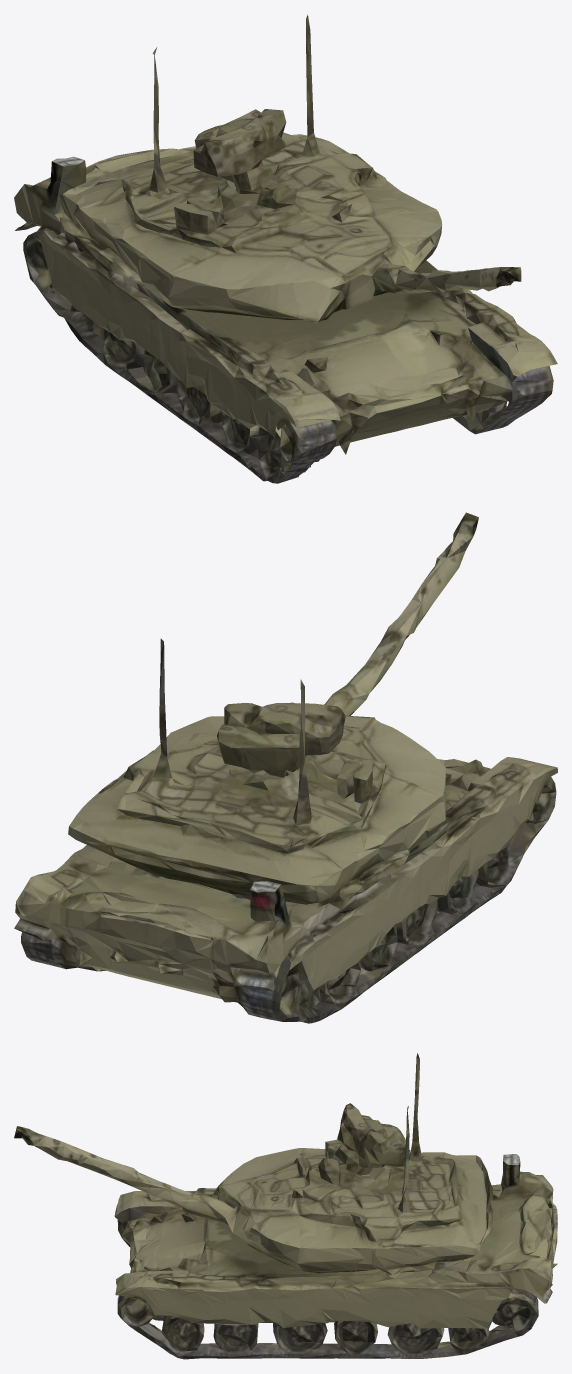
The model's file is veh_ztz99a.glb.
3 renders of one model, top to bottom at view 1: azimuth 30°, elevation 25°; view 2: azimuth 150°, elevation 25°; view 3: azimuth 270°, elevation 25°, orthographic. The views are drawn at different scales.
Parts seen in each view (by area): view 1: veh_ztz99a_tex; view 2: veh_ztz99a_tex; view 3: veh_ztz99a_tex.
Part boxes in pixels (<box>): veh_ztz99a_tex: <box>14,14,557,483</box>; veh_ztz99a_tex: <box>14,512,557,1023</box>; veh_ztz99a_tex: <box>14,1053,557,1359</box>.
Size of the model in its own units: 3.52 by 3.67 by 7.6.
1 material, 1 textured.
